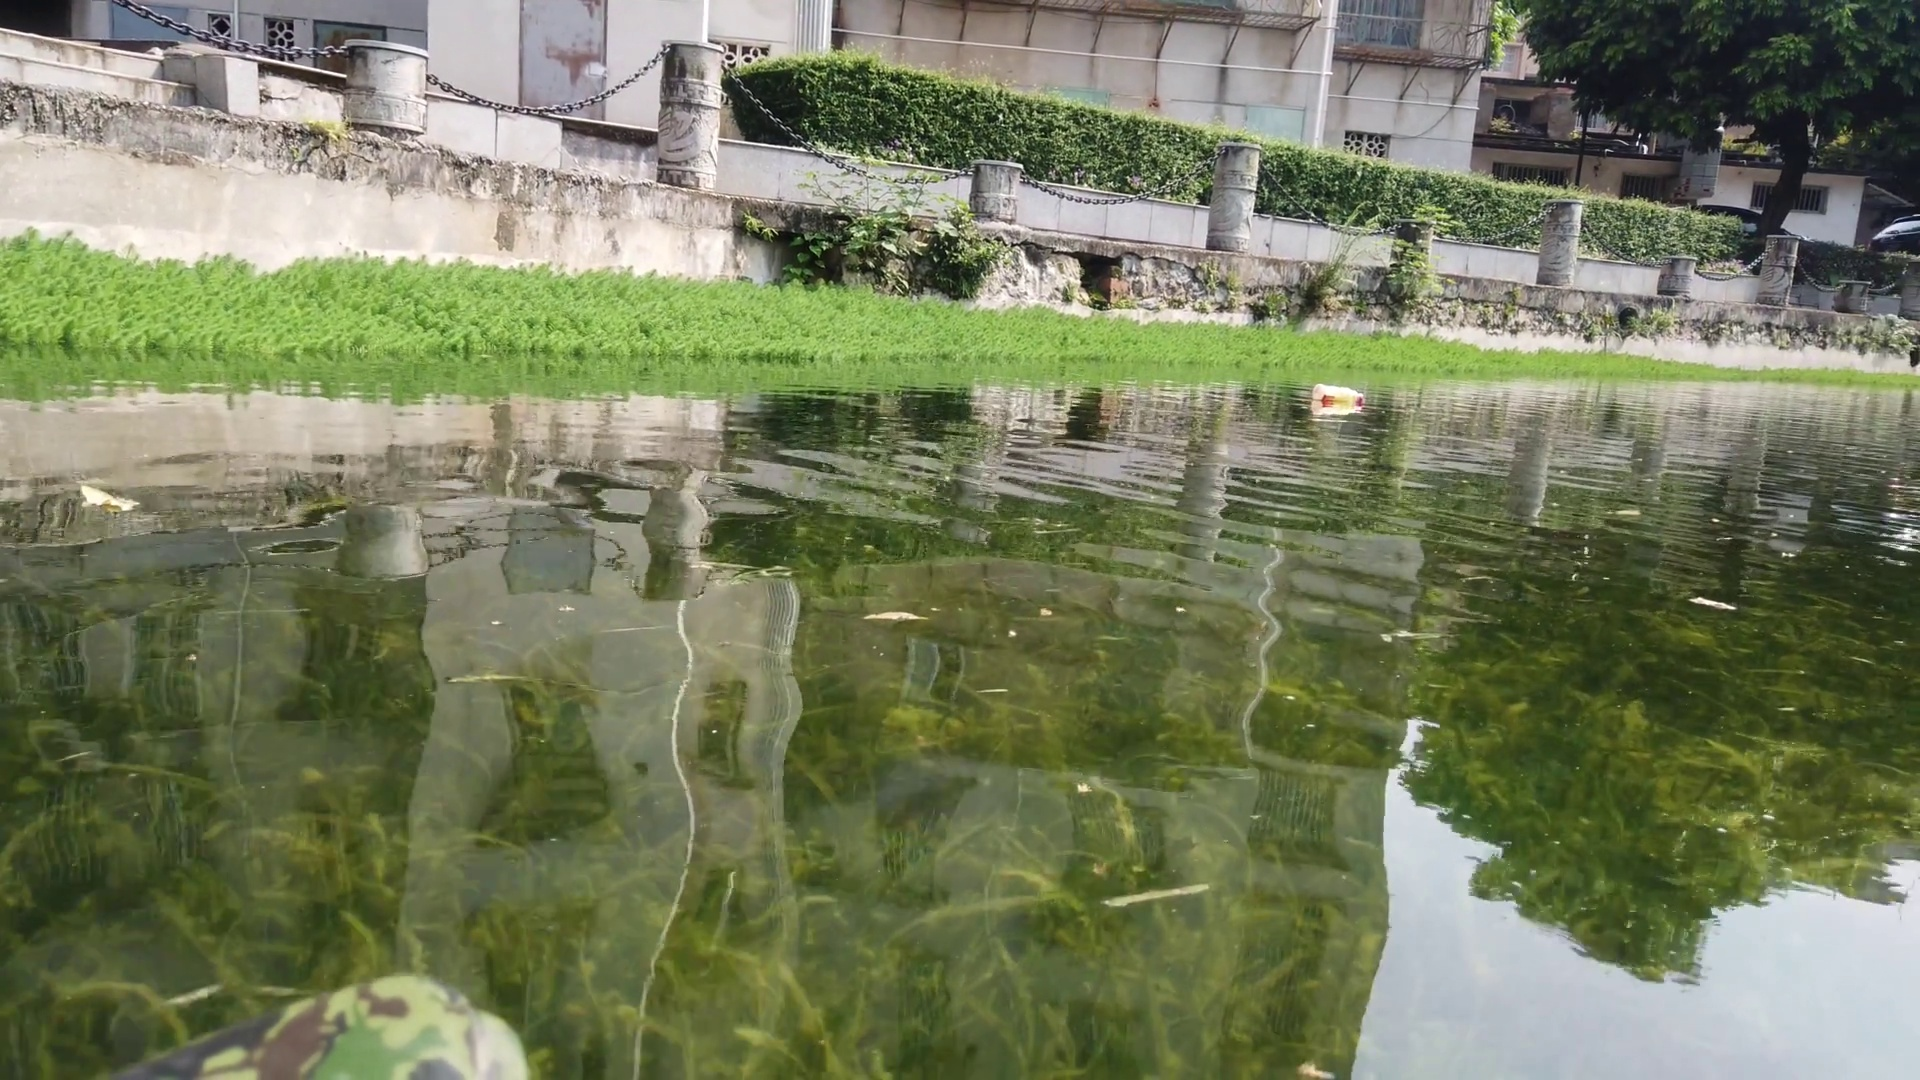bottle: (1312, 378, 1367, 406)
